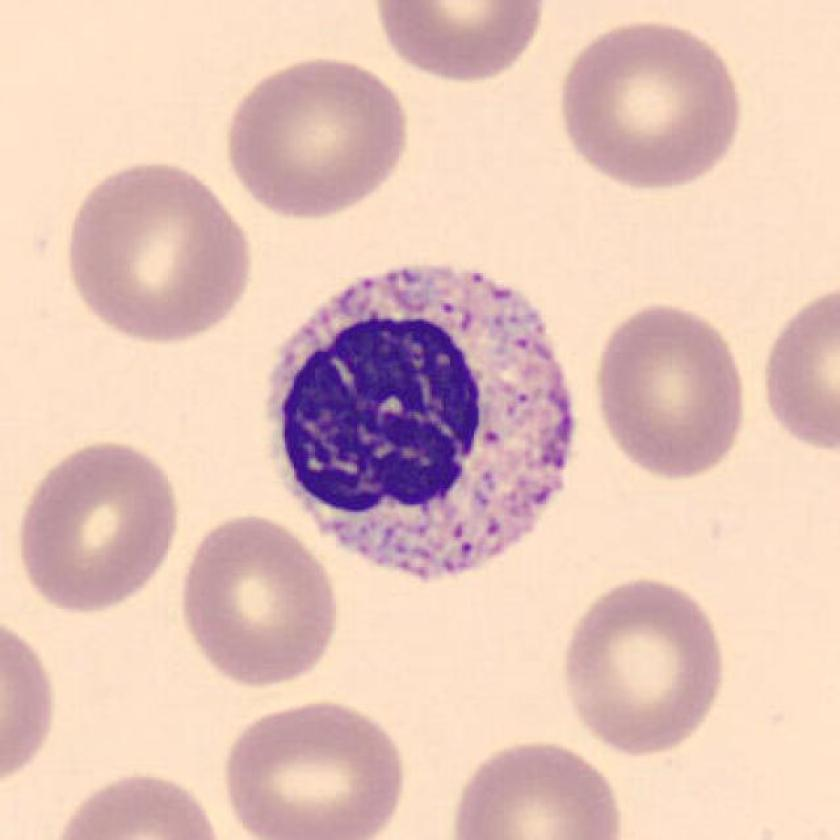neutrophil: (266, 263, 576, 580)
